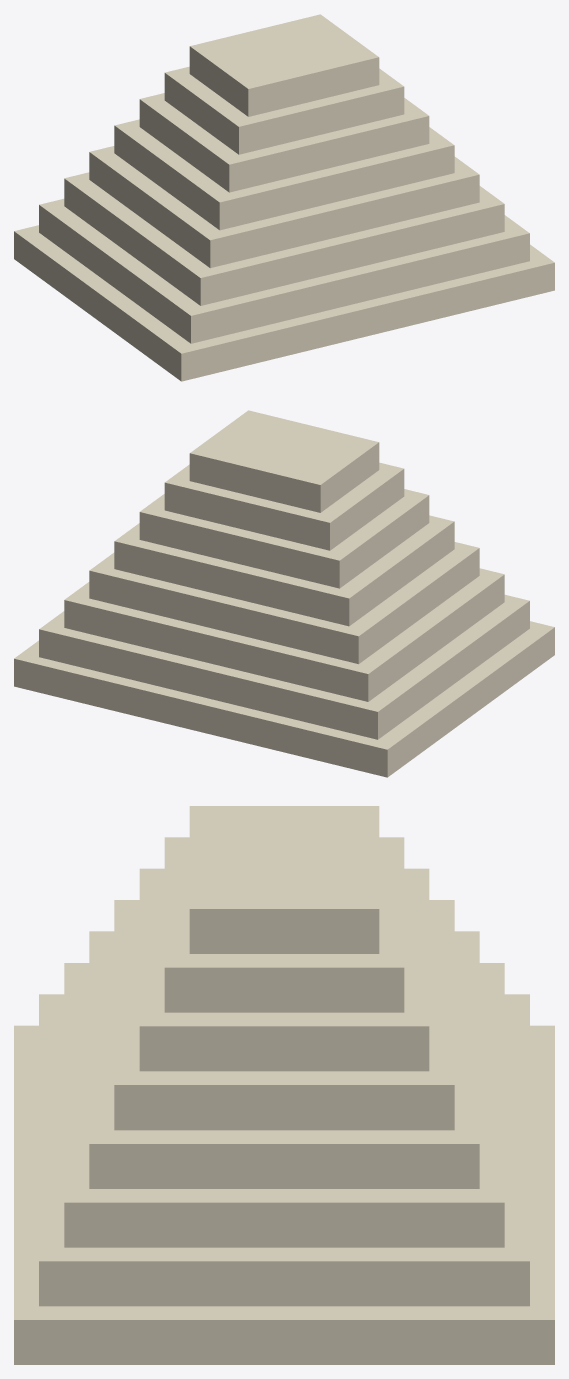
The model's file is place-palenque.glb.
3 renders of one model, top to bottom at view 1: azimuth 30°, elevation 25°; view 2: azimuth 150°, elevation 25°; view 3: azimuth 270°, elevation 25°, orthographic. The views are drawn at different scales.
Parts seen in each view (by area): view 1: place-palenque; view 2: place-palenque; view 3: place-palenque.
Boxes of the visible parts, bbox=[...] form: place-palenque: bbox=[14, 14, 554, 381]; place-palenque: bbox=[14, 410, 554, 777]; place-palenque: bbox=[14, 806, 554, 1364].
Bounding box in the file's own units: 40.3 × 23 × 31.3.
